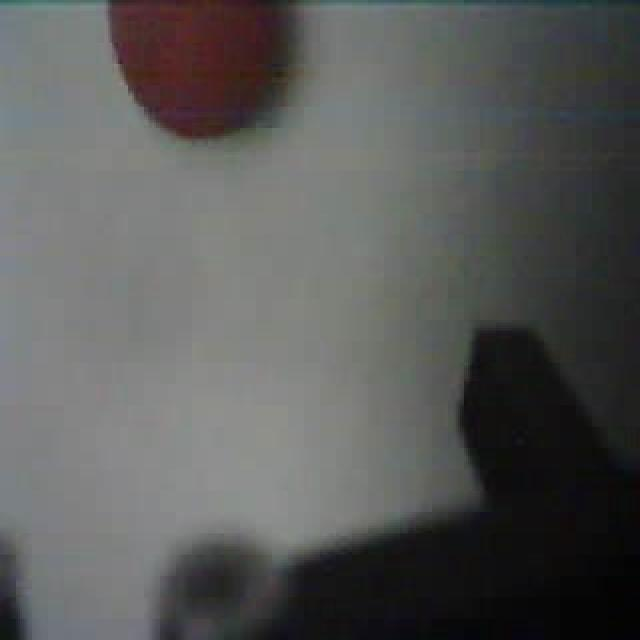red_ball: (102, 0, 298, 147)
